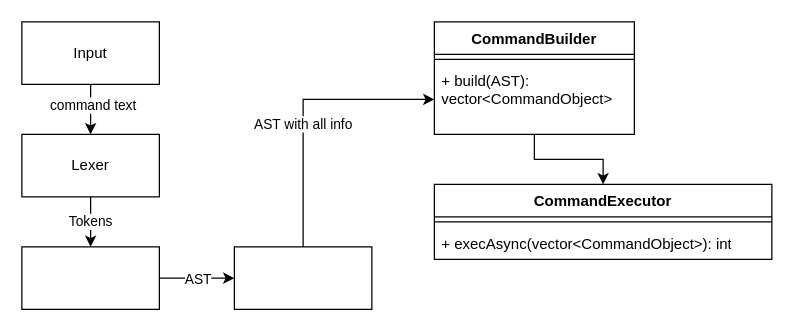
The diagram is 794 pixels wide and 331 high, and some of its shapes have lost their labels. The centre of each missing label's shape, as x and y in pixels:
"Expression Expansion" goes at [302,277].
"Parser" goes at [90,277].
